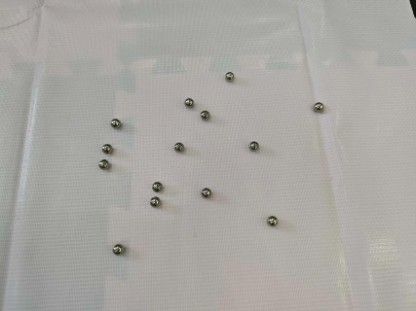ironball: (97, 157, 108, 170), (112, 243, 122, 254), (109, 117, 120, 127), (266, 215, 276, 225), (173, 141, 183, 151), (149, 195, 158, 205), (150, 181, 160, 190), (199, 187, 209, 196), (224, 71, 234, 80), (198, 109, 208, 118), (101, 142, 111, 151), (312, 102, 323, 110), (248, 140, 257, 149), (183, 97, 192, 106)
